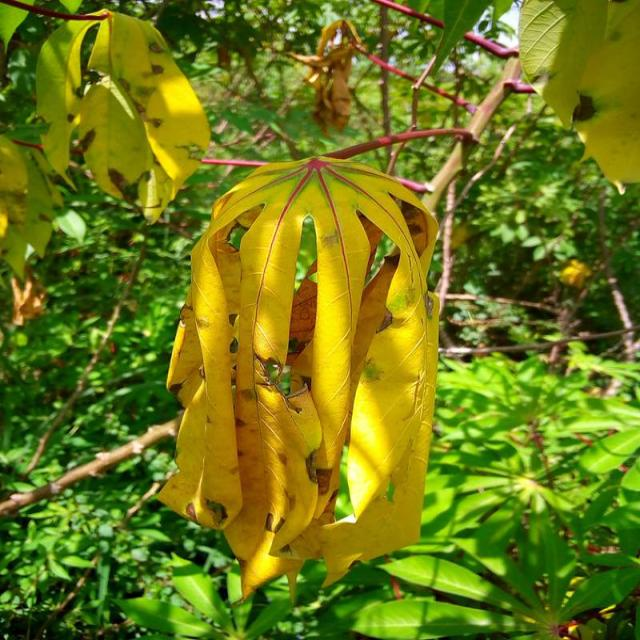cassava leaf: (156, 153, 441, 606), (34, 7, 210, 224), (517, 0, 638, 194)
